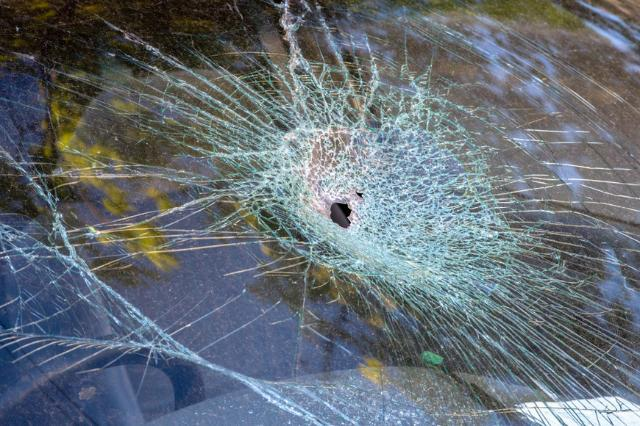Windshield: (3, 0, 640, 426)
